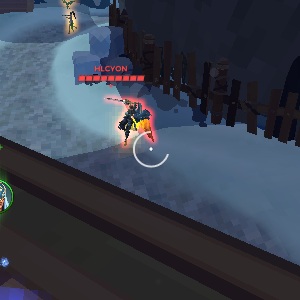model: (112, 91, 159, 152), (63, 9, 80, 40)
